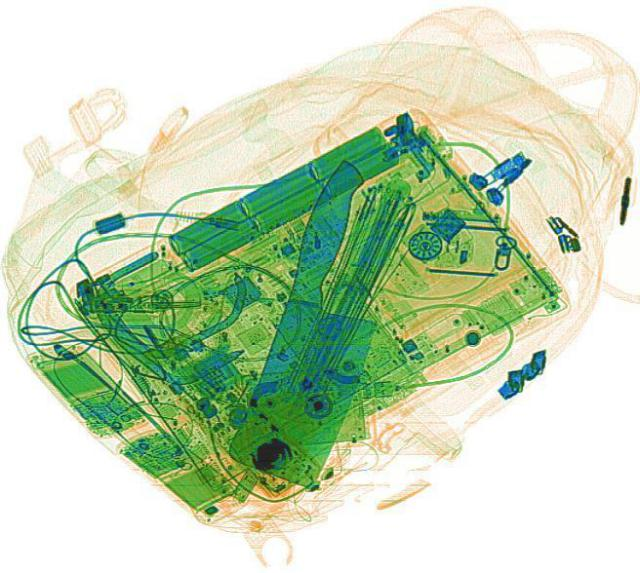Knife: (218, 157, 430, 488)
